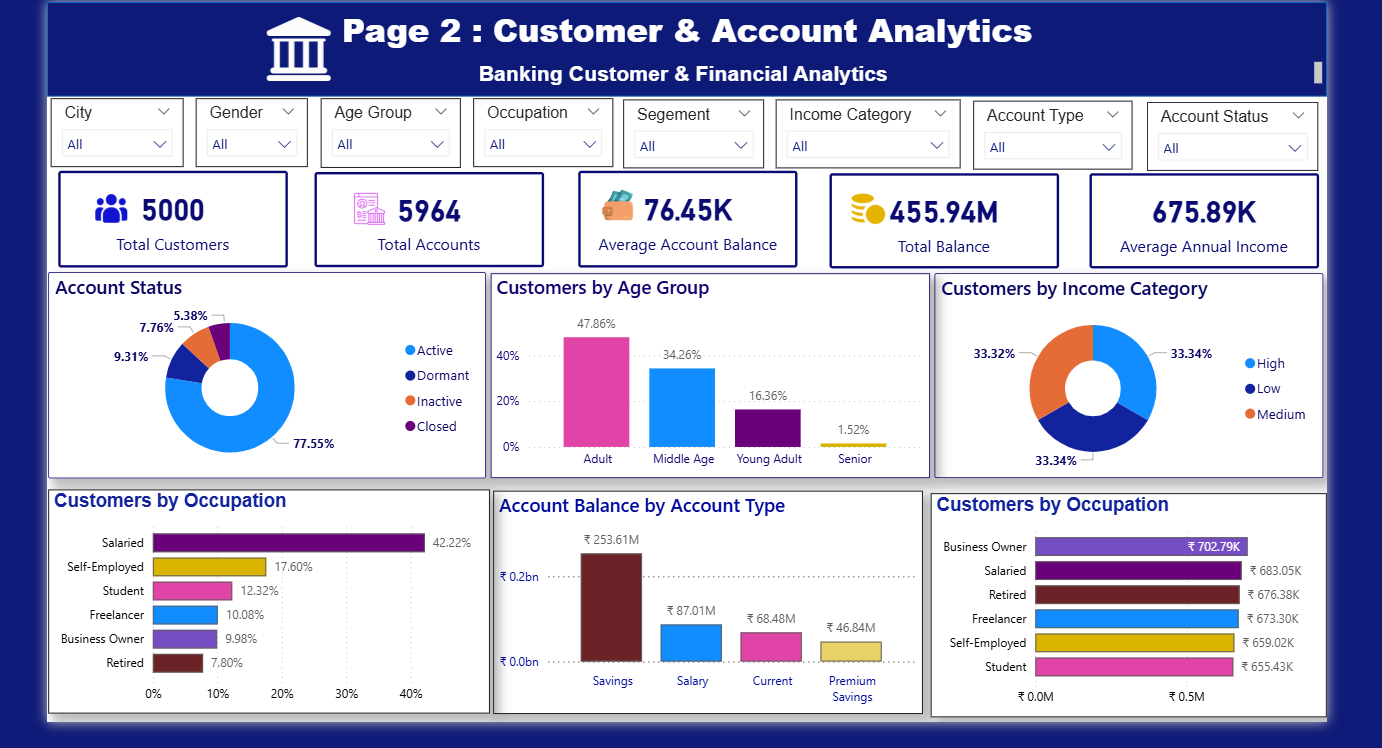

The page's visual inventory and layout, read from the dashboard file:
{"tool":"powerbi","page":{"name":"Customer & Account Analytics","canvas":[1280,720],"ordinal":1},"visuals":[{"type":"shape","box":[0,0,1280,94.7],"z":0},{"type":"textbox","box":[0,0,1280.3,55],"z":1000},{"type":"textbox","box":[0,55,1280.3,40.4],"z":2000},{"type":"image","box":[203.9,14.5,96.5,63.9],"z":3000},{"type":"slicer","title":"Month","fields":{"Values":["customers_cleaned.city"]},"box":[3.6,96.5,132.7,68.8],"z":4000},{"type":"slicer","title":"Month","fields":{"Values":["customers_cleaned.gender"]},"box":[148.6,96.6,112.2,68.8],"z":5000},{"type":"slicer","title":"Month","fields":{"Values":["customers_cleaned.age_group"]},"box":[274.1,96.3,139.9,70],"z":6000},{"type":"slicer","title":"Month","fields":{"Values":["customers_cleaned.occupation"]},"box":[425.9,96.6,139.9,68.8],"z":7000},{"type":"slicer","title":"Month","fields":{"Values":["customers_cleaned.customer_segment"]},"box":[576.7,97.8,141.2,68.8],"z":8000},{"type":"card","fields":{"Values":["customers_cleaned.Total Customers"]},"box":[10.7,168.9,229.2,96.5],"z":9000},{"type":"card","fields":{"Values":["accounts_cleaned.Total Accounts"]},"box":[267.6,170.1,229.2,95.3],"z":10000},{"type":"card","fields":{"Values":["accounts_cleaned.Total Balance"]},"box":[782.8,171.3,229.2,95.3],"z":11000},{"type":"card","fields":{"Values":["accounts_cleaned.Average Account Balance"]},"box":[531.8,168.9,219.6,96.5],"z":12000},{"type":"image","box":[48.1,190.6,33.8,32.6],"z":13000},{"type":"image","box":[306.2,190.6,32.6,33.8],"z":14000},{"type":"image","box":[803.2,190.4,35,33.8],"z":15000},{"type":"donutChart","title":"Account Status","fields":{"Category":["accounts_cleaned.account_status"],"Y":["CountNonNull(accounts_cleaned.account_id)"]},"box":[1.4,269.9,437.9,206.3],"z":16000},{"type":"clusteredColumnChart","title":"Customers by Age Group","fields":{"Category":["customers_cleaned.age_group"],"Y":["CountNonNull(customers_cleaned.customer_id)"]},"box":[444,271.4,439.1,205.1],"z":17000},{"type":"donutChart","title":"Customers by Income Category","fields":{"Y":["CountNonNull(customers_cleaned.customer_id)"],"Category":["customers_cleaned.income_category"]},"box":[887.9,271.4,388.5,205.1],"z":18000},{"type":"columnChart","title":"Account Balance by Account Type","fields":{"Y":["Sum(accounts_cleaned.balance)"],"Category":["accounts_cleaned.account_type"]},"box":[446.4,488.6,429.5,223.2],"z":19000},{"type":"slicer","title":"Month","fields":{"Values":["customers_cleaned.income_category"]},"box":[728.9,97.7,184.6,68.8],"z":20000},{"type":"slicer","title":"Month","fields":{"Values":["accounts_cleaned.account_type"]},"box":[926.8,98.9,159.3,68.8],"z":21000},{"type":"slicer","title":"Month","fields":{"Values":["accounts_cleaned.account_status"]},"box":[1100.5,100.1,171.3,68.8],"z":22000},{"type":"clusteredBarChart","title":"Customers by Occupation","fields":{"Y":["CountNonNull(customers_cleaned.customer_id)"],"Category":["customers_cleaned.occupation"]},"box":[1.8,487.3,441.8,223.6],"z":23000},{"type":"image","box":[553.5,185.8,33.8,33.8],"z":24000},{"type":"card","fields":{"Values":["customers_cleaned.Average Annual Income"]},"box":[1042.4,171.3,229.2,95.3],"z":25000},{"type":"clusteredBarChart","title":"Customers by Occupation","fields":{"Category":["customers_cleaned.occupation"],"Y":["Avg(customers_cleaned.annual_income)"]},"box":[883.6,490.9,396.4,223.6],"z":26000}]}

Visuals, with their boxes on the page's 1280x720 design canvas (x1, y1, x2, y2). These are canvas units, not pixel positions in the 1382x748 screenshot, which may show the page scaled, cropped or inside an application window:
shape: (0, 0, 1280, 95)
textbox: (0, 0, 1280, 55)
textbox: (0, 55, 1280, 95)
image: (204, 14, 300, 78)
"Month" slicer: (4, 96, 136, 165)
"Month" slicer: (149, 97, 261, 165)
"Month" slicer: (274, 96, 414, 166)
"Month" slicer: (426, 97, 566, 165)
"Month" slicer: (577, 98, 718, 167)
card - customers_cleaned.Total Customers: (11, 169, 240, 265)
card - accounts_cleaned.Total Accounts: (268, 170, 497, 265)
card - accounts_cleaned.Total Balance: (783, 171, 1012, 267)
card - accounts_cleaned.Average Account Balance: (532, 169, 751, 265)
image: (48, 191, 82, 223)
image: (306, 191, 339, 224)
image: (803, 190, 838, 224)
"Account Status" donutChart: (1, 270, 439, 476)
"Customers by Age Group" clusteredColumnChart: (444, 271, 883, 476)
"Customers by Income Category" donutChart: (888, 271, 1276, 476)
"Account Balance by Account Type" columnChart: (446, 489, 876, 712)
"Month" slicer: (729, 98, 914, 166)
"Month" slicer: (927, 99, 1086, 168)
"Month" slicer: (1100, 100, 1272, 169)
"Customers by Occupation" clusteredBarChart: (2, 487, 444, 711)
image: (554, 186, 587, 220)
card - customers_cleaned.Average Annual Income: (1042, 171, 1272, 267)
"Customers by Occupation" clusteredBarChart: (884, 491, 1280, 714)
